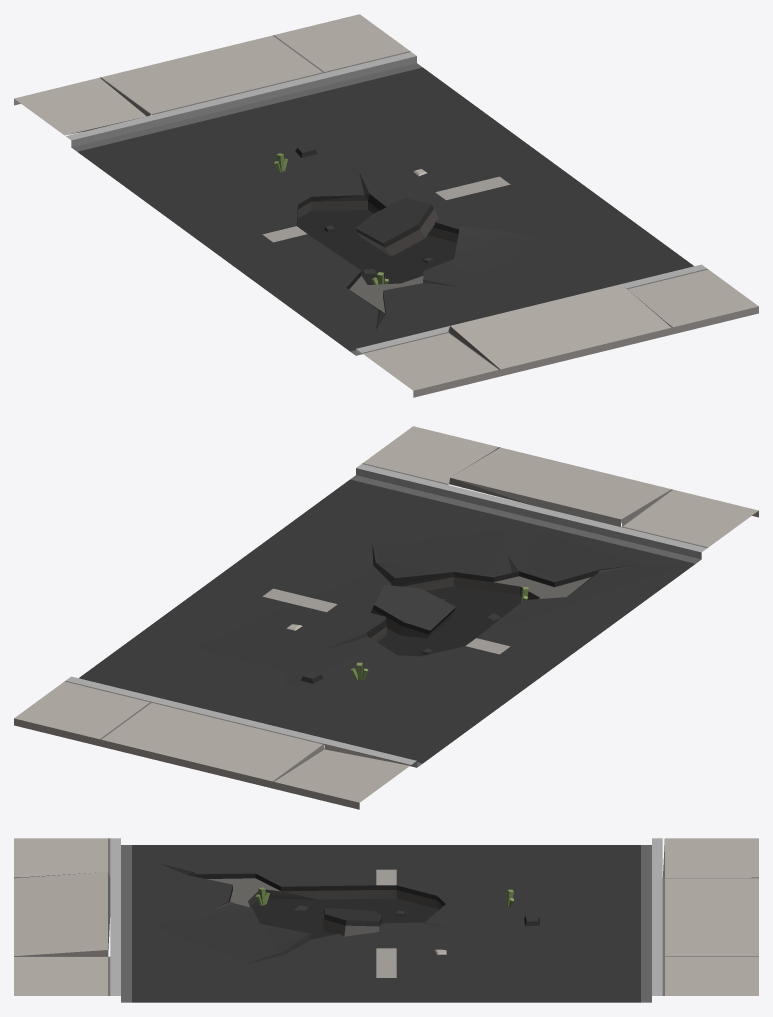
The model's file is SA_Env_RoadStraight_Damaged_06.glb.
The picture shows the model from 3 angles, top to bottom: view 1: azimuth 30°, elevation 25°; view 2: azimuth 150°, elevation 25°; view 3: azimuth 270°, elevation 25°; orthographic projection. The views are drawn at different scales.
Parts seen in each view (by area): view 1: SA_Env_RoadStraight_Damaged_06; view 2: SA_Env_RoadStraight_Damaged_06; view 3: SA_Env_RoadStraight_Damaged_06.
Boxes of the visible parts, x1,y1,x2,y2 form: SA_Env_RoadStraight_Damaged_06: (14, 14, 758, 397); SA_Env_RoadStraight_Damaged_06: (14, 426, 758, 809); SA_Env_RoadStraight_Damaged_06: (14, 838, 758, 1002).
Size of the model in its own units: 4.2 by 0.4127 by 8.4.
1 material, 1 textured.
